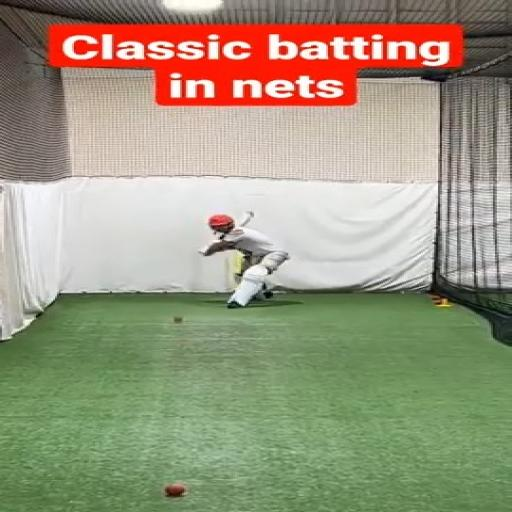Cricket bat: (241, 212, 252, 225)
